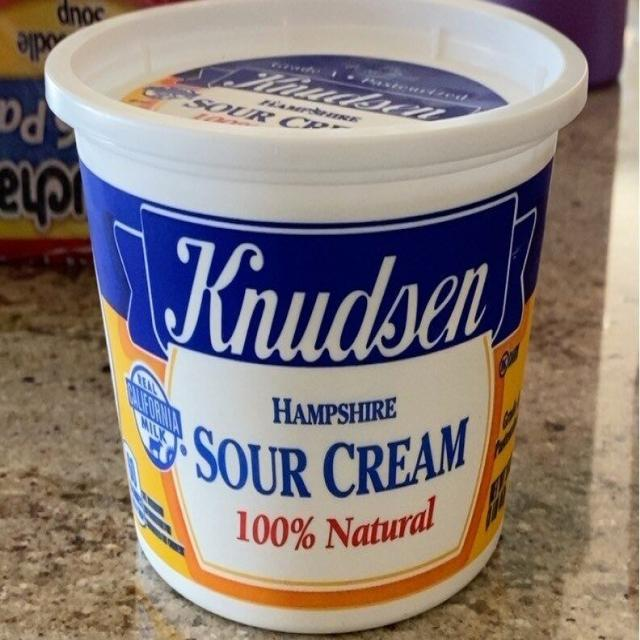plastic: (43, 0, 589, 640)
